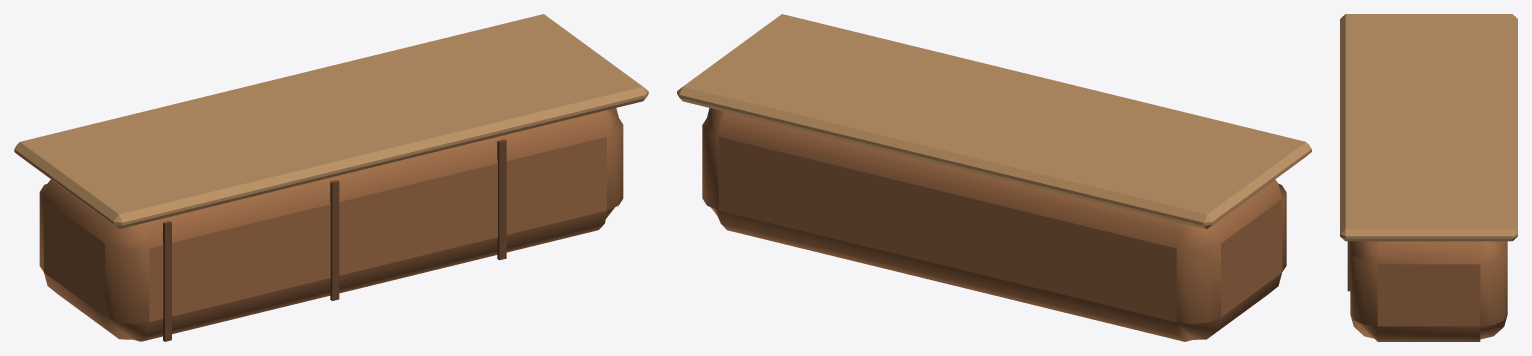
File: front_counter.glb
3 views of the same model, side by side, from view 1: azimuth 30°, elevation 25°; view 2: azimuth 150°, elevation 25°; view 3: azimuth 270°, elevation 25° (orthographic). The views are drawn at different scales.
Parts seen in each view (by area): view 1: body; view 2: body; view 3: body.
Part boxes in pixels (box(x1,y1,x2,y2)): body: box(14, 14, 648, 341); body: box(677, 14, 1311, 341); body: box(1340, 14, 1517, 341).
Size of the model in its own units: 3.04 by 0.8 by 1.04.
